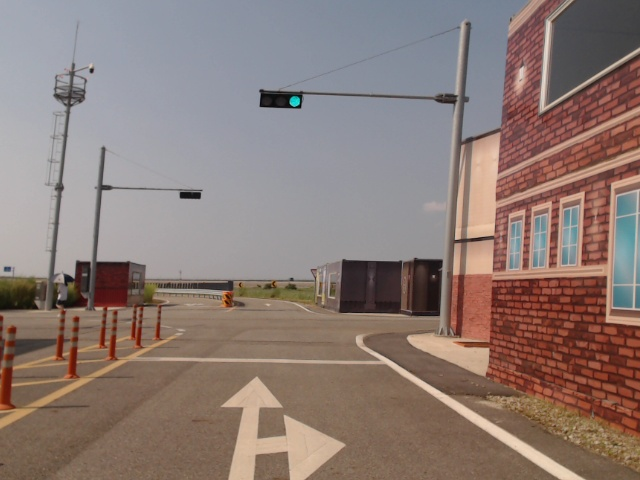green_3: (259, 92, 302, 109)
